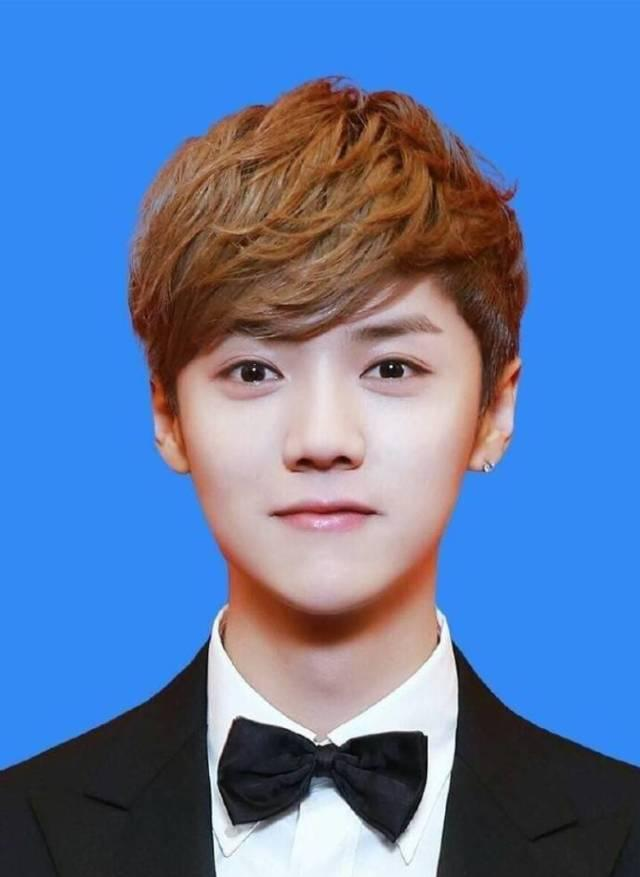unmask: (177, 321, 484, 590)
